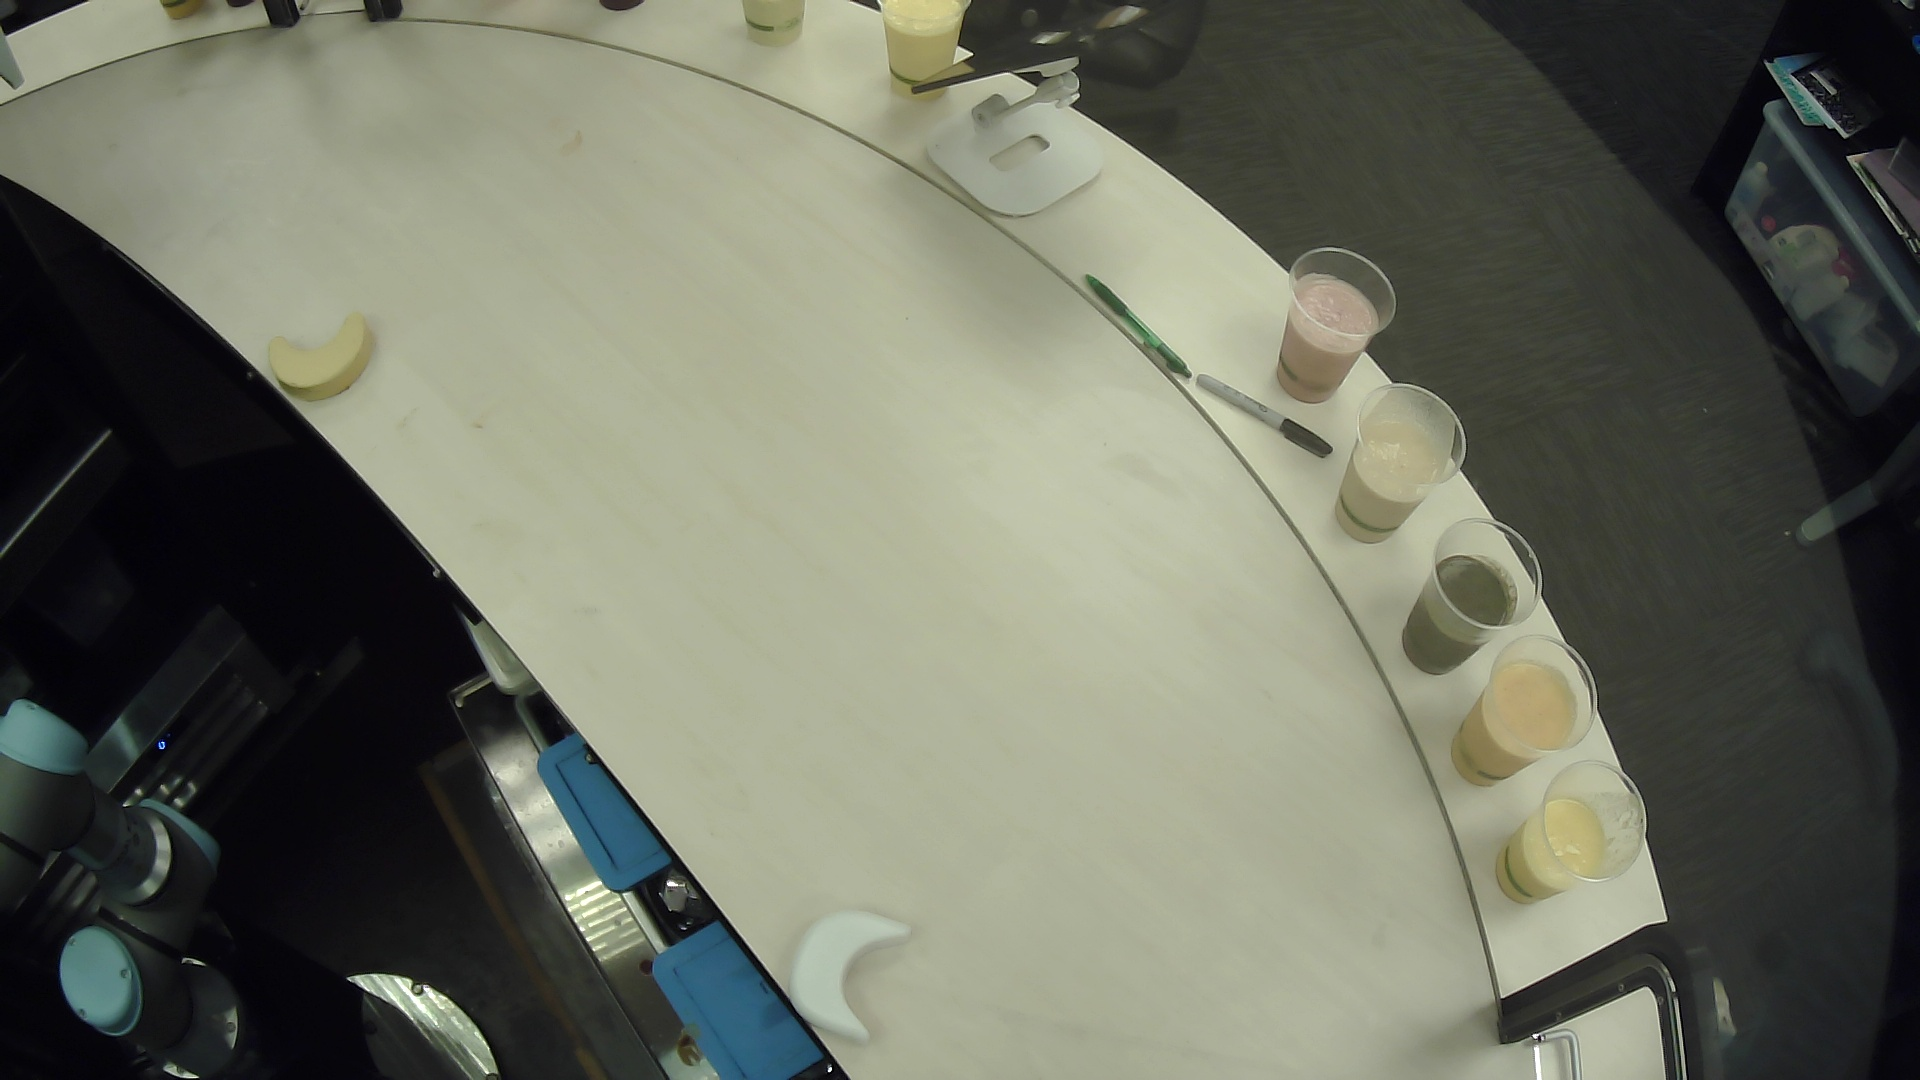Deliver: (779, 877, 955, 1051), (249, 294, 392, 413)
Full_cup: (1305, 367, 1481, 574), (1383, 506, 1563, 688), (1480, 746, 1673, 913), (1439, 618, 1614, 796), (1267, 237, 1418, 413), (872, 1, 996, 127)
